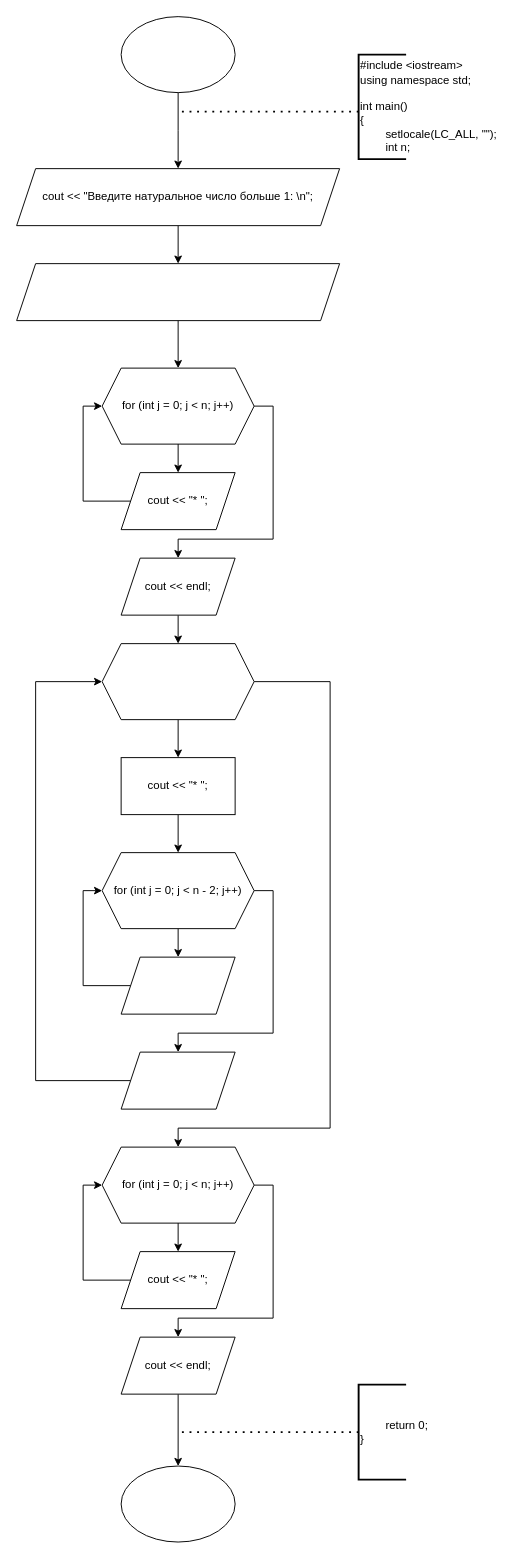
Some shapes in this 514 by 1559 pixel diagram are drawn without their labels. Each missing label, with the centre of its shape:
cin >> n;: (x=178, y=292)
cout << " ";: (x=177, y=985)
cout << "* " << endl;;: (x=177, y=1080)
for (int i = 0; i < n - 2; i++): (x=177, y=681)
Конец: (x=177, y=1503)
Начало: (x=177, y=54)
